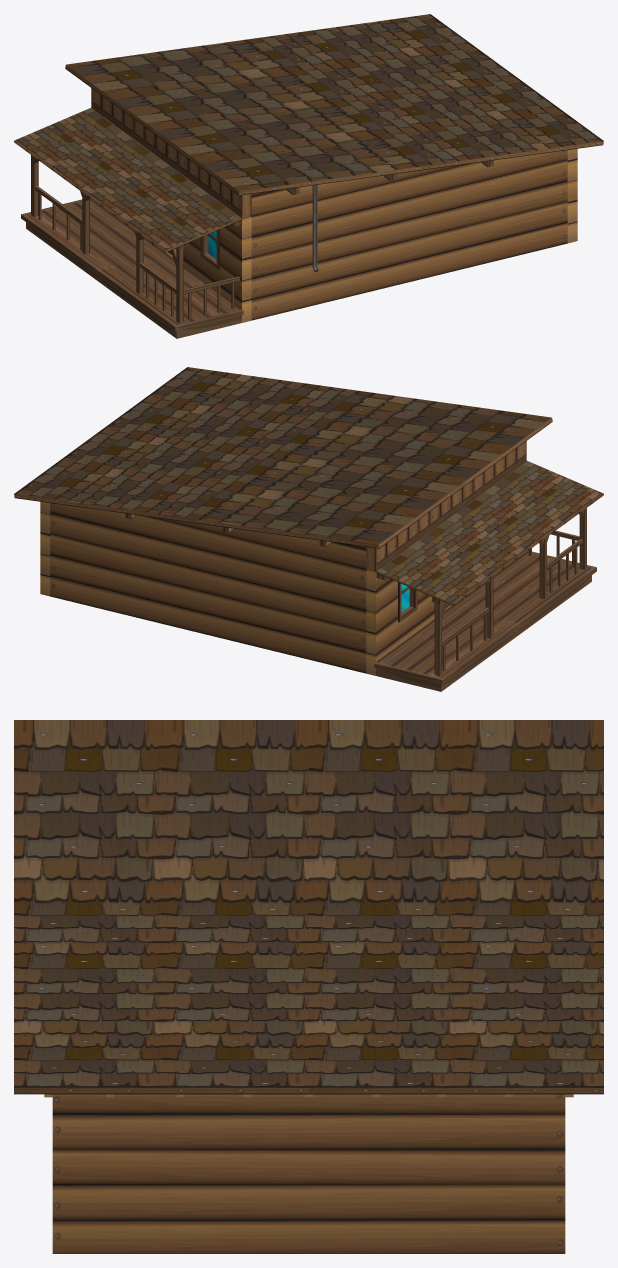
File: House_01.FBX
The picture shows the model from 3 angles, top to bottom: view 1: azimuth 30°, elevation 25°; view 2: azimuth 150°, elevation 25°; view 3: azimuth 270°, elevation 25°; orthographic projection. The views are drawn at different scales.
Parts seen in each view (by area): view 1: Roof, Walls, Frontage, Front; view 2: Roof, Walls, Frontage, Front; view 3: Roof, Walls.
Part boxes in pixels (x1,y1,x2,y2): Roof: (65,14,603,195); Walls: (251,148,577,320); Frontage: (14,107,243,338); Front: (91,88,251,322); Roof: (14,367,552,548); Walls: (40,501,366,673); Frontage: (374,460,603,691); Front: (366,441,526,675); Roof: (14,720,603,1097); Walls: (52,1094,565,1253).
Bounding box in the file's own units: 13.12 × 4.2 × 9.21.
